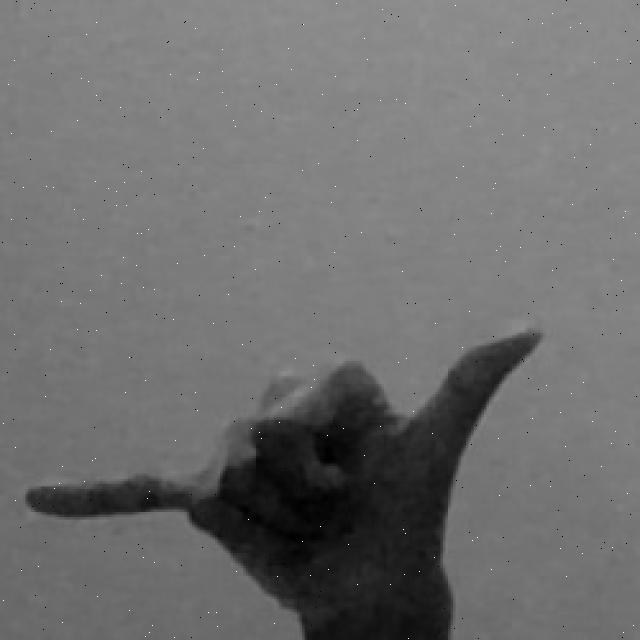Y: (21, 321, 552, 640)
